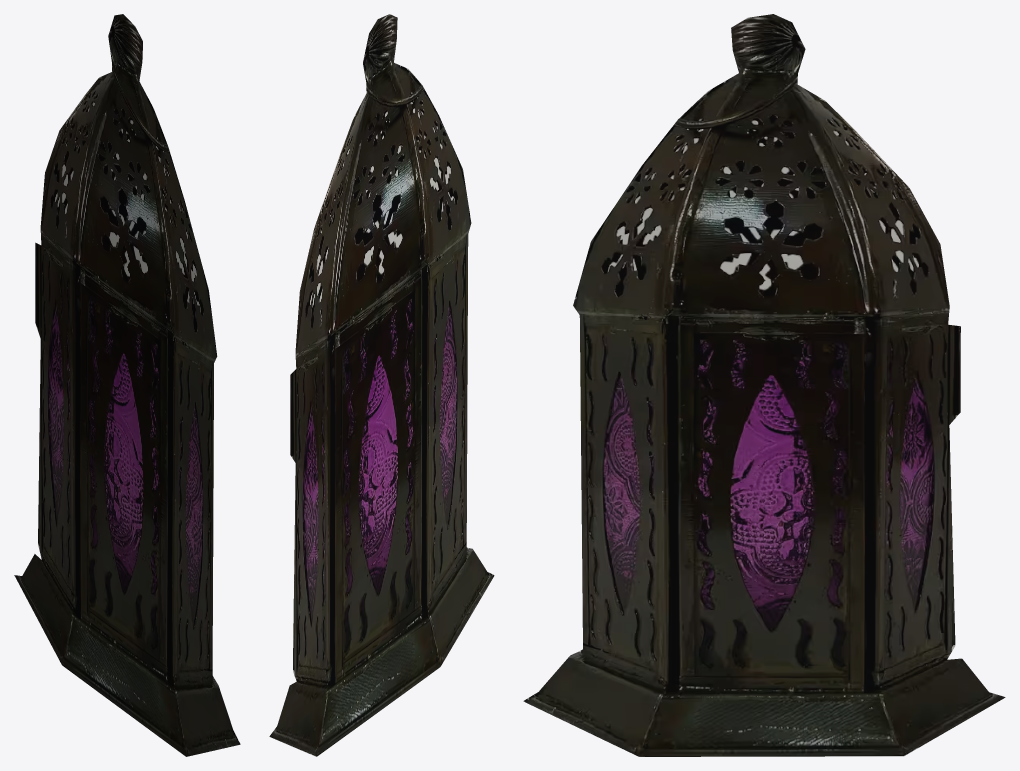
Rendered from lilaneLaterne.2d.glb.
3 renders of one model, left to right at view 1: azimuth 30°, elevation 25°; view 2: azimuth 150°, elevation 25°; view 3: azimuth 270°, elevation 25°, orthographic. The views are drawn at different scales.
Parts seen in each view (by area): view 1: Bildschirmfoto 2025-05-03 um 18.19.38; view 2: Bildschirmfoto 2025-05-03 um 18.19.38; view 3: Bildschirmfoto 2025-05-03 um 18.19.38.
Boxes of the visible parts, x1,y1,x2,y2 form: Bildschirmfoto 2025-05-03 um 18.19.38: [14, 14, 240, 756]; Bildschirmfoto 2025-05-03 um 18.19.38: [269, 14, 494, 756]; Bildschirmfoto 2025-05-03 um 18.19.38: [523, 14, 1005, 756].
Size of the model in its own units: 0 by 2.16 by 1.27.
Materials: 1 (1 with a texture image).
